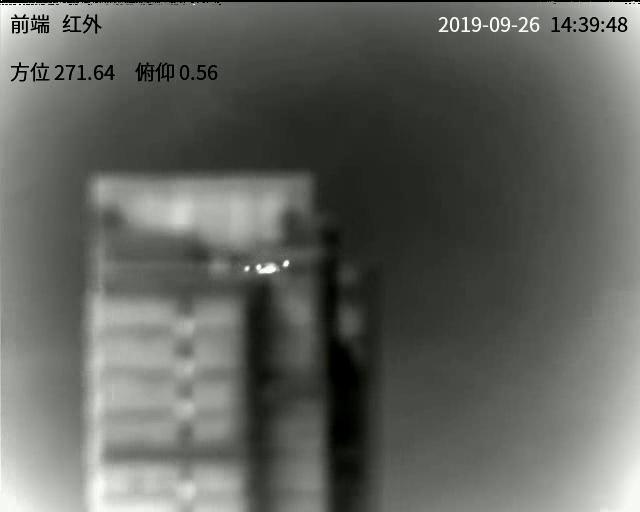DRONE: (242, 259, 292, 276)
